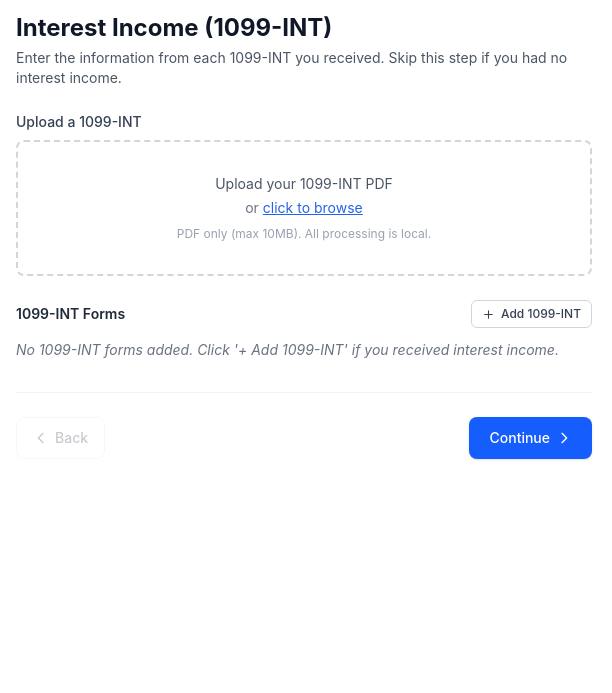
it: InterestIncomePage › adds a 1099-INT when clicking add
Click the button "Add 1099-INT".
click(532, 314)  # box [471,300,592,328]
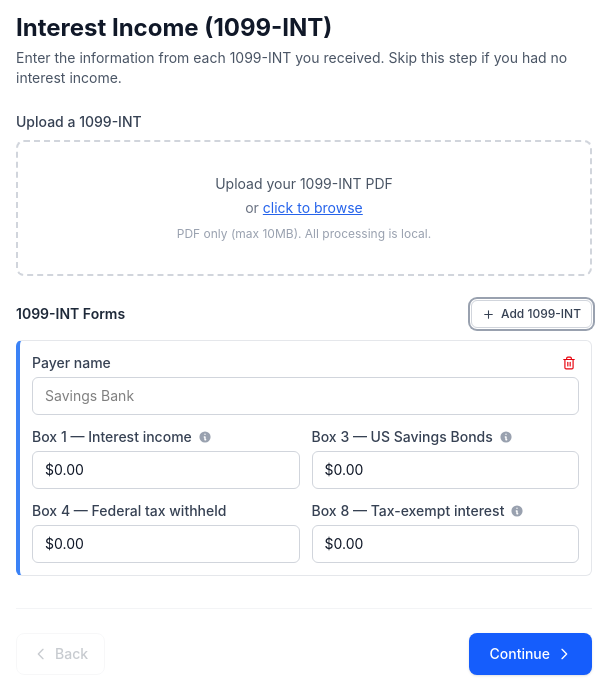
Check: the field with placeholder "Savings Bank" is shown, box [32,377,579,415]
